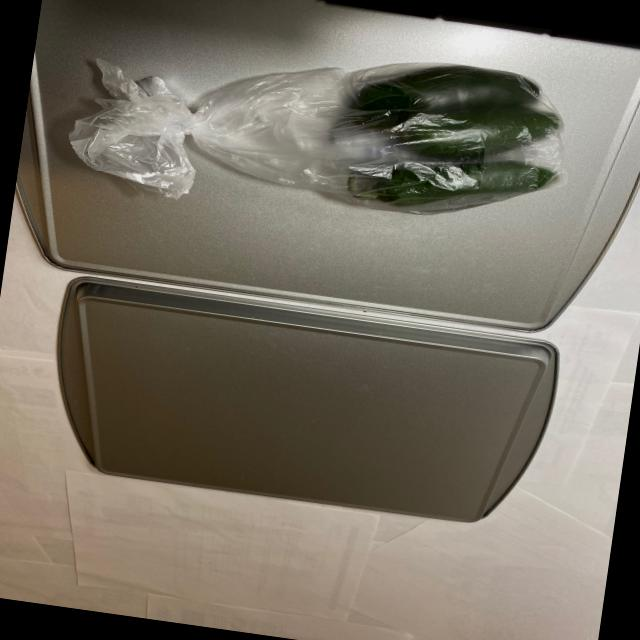chilli: (309, 48, 584, 233)
